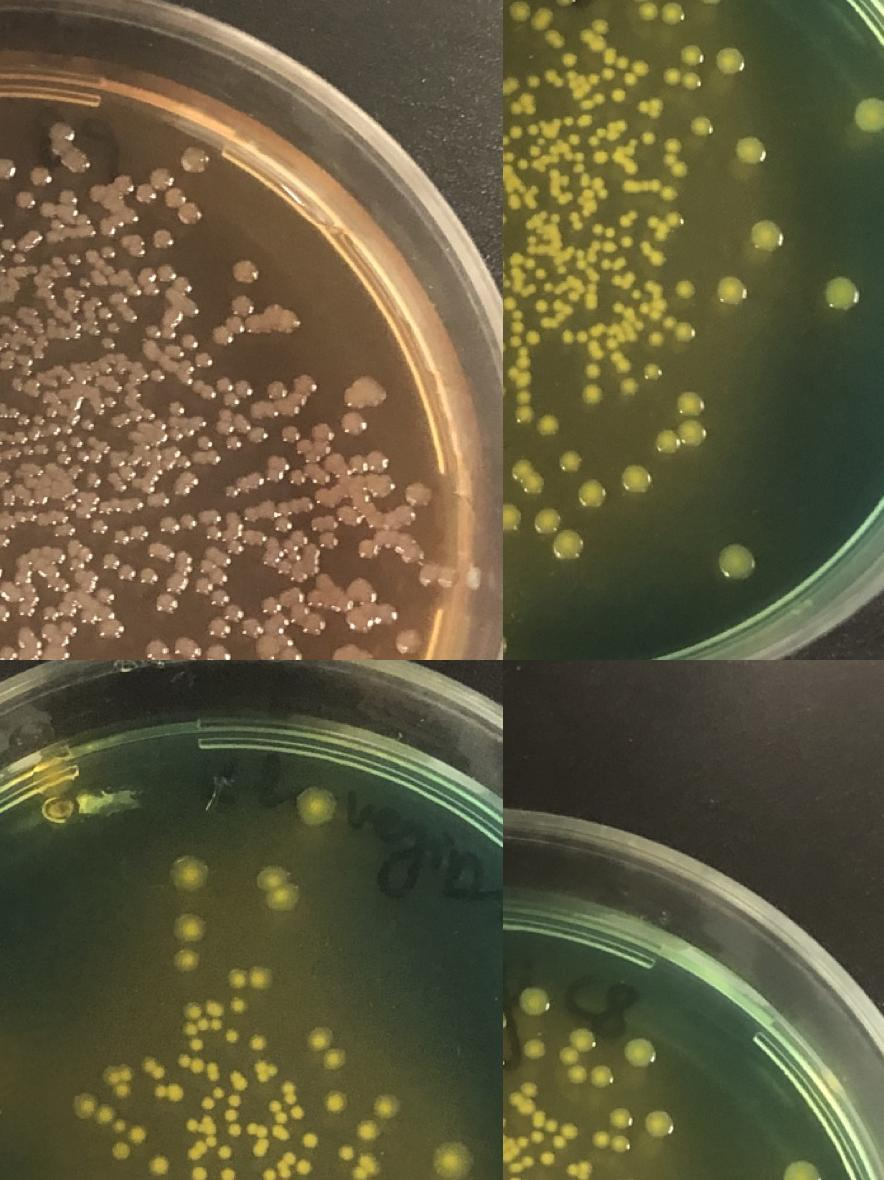sinniae: (204, 586, 330, 642), (147, 165, 206, 226), (35, 424, 94, 468), (7, 163, 58, 213), (200, 376, 254, 408), (264, 372, 324, 400), (116, 564, 162, 586), (402, 482, 436, 508), (339, 411, 373, 437), (230, 258, 264, 284), (110, 524, 150, 546), (180, 148, 215, 173), (159, 514, 198, 536), (143, 636, 178, 660), (394, 628, 422, 656), (245, 422, 273, 450), (206, 324, 236, 350), (229, 294, 258, 320), (344, 608, 372, 634), (153, 592, 181, 618), (354, 536, 382, 562), (365, 447, 393, 473), (276, 420, 304, 446), (309, 420, 337, 446), (149, 226, 177, 252), (125, 281, 161, 301), (99, 323, 123, 350), (0, 156, 22, 182), (32, 407, 58, 426), (273, 516, 295, 536), (288, 469, 310, 489), (155, 263, 177, 283), (192, 351, 216, 369), (204, 645, 232, 660), (275, 645, 303, 660), (8, 407, 30, 426), (38, 604, 60, 622), (319, 532, 341, 550), (53, 522, 75, 540), (88, 518, 110, 536), (148, 492, 170, 510), (0, 238, 17, 261), (0, 600, 13, 627), (0, 531, 13, 558), (85, 472, 103, 490), (196, 434, 214, 452), (226, 434, 244, 452), (170, 400, 188, 418), (7, 376, 25, 394), (16, 352, 34, 370), (180, 333, 198, 351), (122, 308, 140, 326), (118, 465, 135, 483), (160, 546, 176, 564), (96, 306, 115, 320), (149, 369, 167, 383), (144, 326, 162, 340), (76, 276, 94, 290), (98, 246, 116, 260), (10, 253, 28, 266), (67, 253, 84, 266), (81, 416, 95, 430), (104, 394, 118, 408), (98, 440, 110, 454), (6, 433, 16, 447)
vharveyi: (652, 388, 707, 456), (532, 507, 583, 558), (306, 1025, 350, 1074), (184, 1000, 224, 1050), (259, 864, 300, 910), (435, 1139, 474, 1180), (821, 274, 862, 312), (718, 544, 757, 582), (188, 1114, 219, 1160), (263, 1151, 309, 1180), (550, 134, 585, 172), (560, 1026, 595, 1064), (749, 218, 785, 254), (621, 1036, 657, 1072), (512, 457, 544, 496), (177, 1054, 219, 1083), (642, 1108, 676, 1142), (518, 986, 552, 1019), (734, 132, 766, 167), (854, 96, 884, 133), (713, 45, 746, 78), (714, 274, 748, 306), (302, 791, 334, 824), (175, 856, 207, 888), (566, 70, 600, 100), (589, 120, 626, 147), (664, 138, 686, 178), (622, 466, 652, 495), (246, 1122, 270, 1158), (577, 480, 607, 508), (783, 1159, 823, 1180), (541, 302, 572, 329), (543, 114, 576, 138), (665, 68, 701, 90), (224, 1094, 242, 1138), (594, 1131, 630, 1153), (352, 1118, 380, 1146), (373, 1091, 401, 1119), (322, 1088, 350, 1116), (177, 916, 205, 944), (503, 1132, 528, 1163), (268, 1100, 288, 1138), (350, 1152, 376, 1180), (147, 1152, 173, 1178), (72, 1094, 98, 1120), (581, 174, 607, 198), (253, 1060, 279, 1084), (589, 1064, 615, 1088), (515, 392, 535, 423), (660, 1, 686, 24), (153, 1084, 185, 1102), (640, 298, 666, 320), (143, 1056, 166, 1080), (512, 94, 537, 116), (560, 448, 582, 472), (539, 414, 561, 438), (648, 217, 670, 241), (503, 502, 521, 531), (106, 1066, 132, 1084), (638, 99, 662, 118), (281, 1079, 298, 1105), (526, 234, 546, 256), (581, 29, 603, 49), (510, 1092, 532, 1112), (567, 1162, 591, 1180), (612, 350, 630, 373), (111, 1141, 131, 1161), (508, 366, 530, 384), (613, 272, 635, 290), (612, 324, 635, 341), (228, 1070, 247, 1090), (618, 209, 638, 227), (544, 70, 564, 88), (554, 252, 570, 274), (563, 330, 588, 344), (692, 117, 711, 135), (178, 951, 196, 970), (585, 284, 597, 311), (692, 0, 728, 9), (338, 1144, 356, 1162), (249, 1034, 267, 1052), (228, 996, 246, 1014), (227, 970, 245, 988), (250, 970, 268, 988), (612, 1110, 630, 1128), (512, 309, 525, 333), (546, 30, 564, 47), (534, 10, 551, 28), (526, 1040, 543, 1058), (648, 330, 664, 348), (678, 280, 694, 298), (550, 170, 568, 186), (683, 48, 701, 64), (568, 1066, 586, 1082), (569, 210, 583, 230), (639, 180, 662, 192), (534, 154, 551, 170), (512, 4, 530, 19), (639, 4, 657, 19), (544, 282, 564, 295), (584, 190, 597, 210), (676, 324, 692, 340), (641, 130, 657, 146), (584, 388, 602, 402), (503, 78, 517, 95), (190, 1166, 207, 1180), (590, 323, 606, 337), (645, 366, 660, 380), (521, 284, 536, 298), (622, 380, 636, 394), (303, 1134, 317, 1148), (131, 1128, 145, 1142), (113, 1118, 127, 1132), (184, 1116, 198, 1130), (98, 1108, 112, 1122), (200, 1098, 214, 1112), (212, 1084, 226, 1098), (117, 1084, 131, 1098), (225, 1030, 239, 1044), (559, 192, 573, 205), (219, 1145, 232, 1159), (510, 334, 522, 348), (664, 316, 676, 330), (621, 234, 633, 248), (510, 124, 522, 138), (595, 18, 607, 32), (292, 1105, 304, 1119), (522, 1154, 534, 1168), (652, 253, 664, 266), (503, 151, 515, 164), (613, 88, 625, 101), (602, 68, 614, 81), (604, 51, 616, 64), (221, 1168, 234, 1180), (588, 365, 600, 377), (518, 358, 530, 370), (528, 332, 540, 344), (536, 300, 548, 312), (504, 298, 516, 310), (603, 241, 615, 253), (605, 226, 617, 238), (591, 224, 603, 236), (670, 214, 682, 226), (509, 196, 521, 208), (664, 187, 676, 199), (623, 180, 635, 192), (625, 162, 637, 174), (596, 152, 608, 164), (528, 123, 540, 135), (579, 113, 591, 125), (581, 99, 593, 111), (593, 92, 605, 104), (528, 76, 540, 88), (624, 73, 636, 85), (633, 62, 645, 74), (617, 56, 629, 68), (563, 53, 575, 65), (510, 1162, 522, 1174), (542, 1152, 554, 1164), (553, 1136, 565, 1148), (531, 1132, 543, 1144), (562, 1124, 574, 1136), (546, 1120, 558, 1132), (533, 1114, 545, 1126), (524, 1082, 536, 1094), (613, 303, 625, 314), (508, 1176, 520, 1180), (503, 342, 506, 354), (503, 214, 506, 226), (560, 0, 572, 3)
